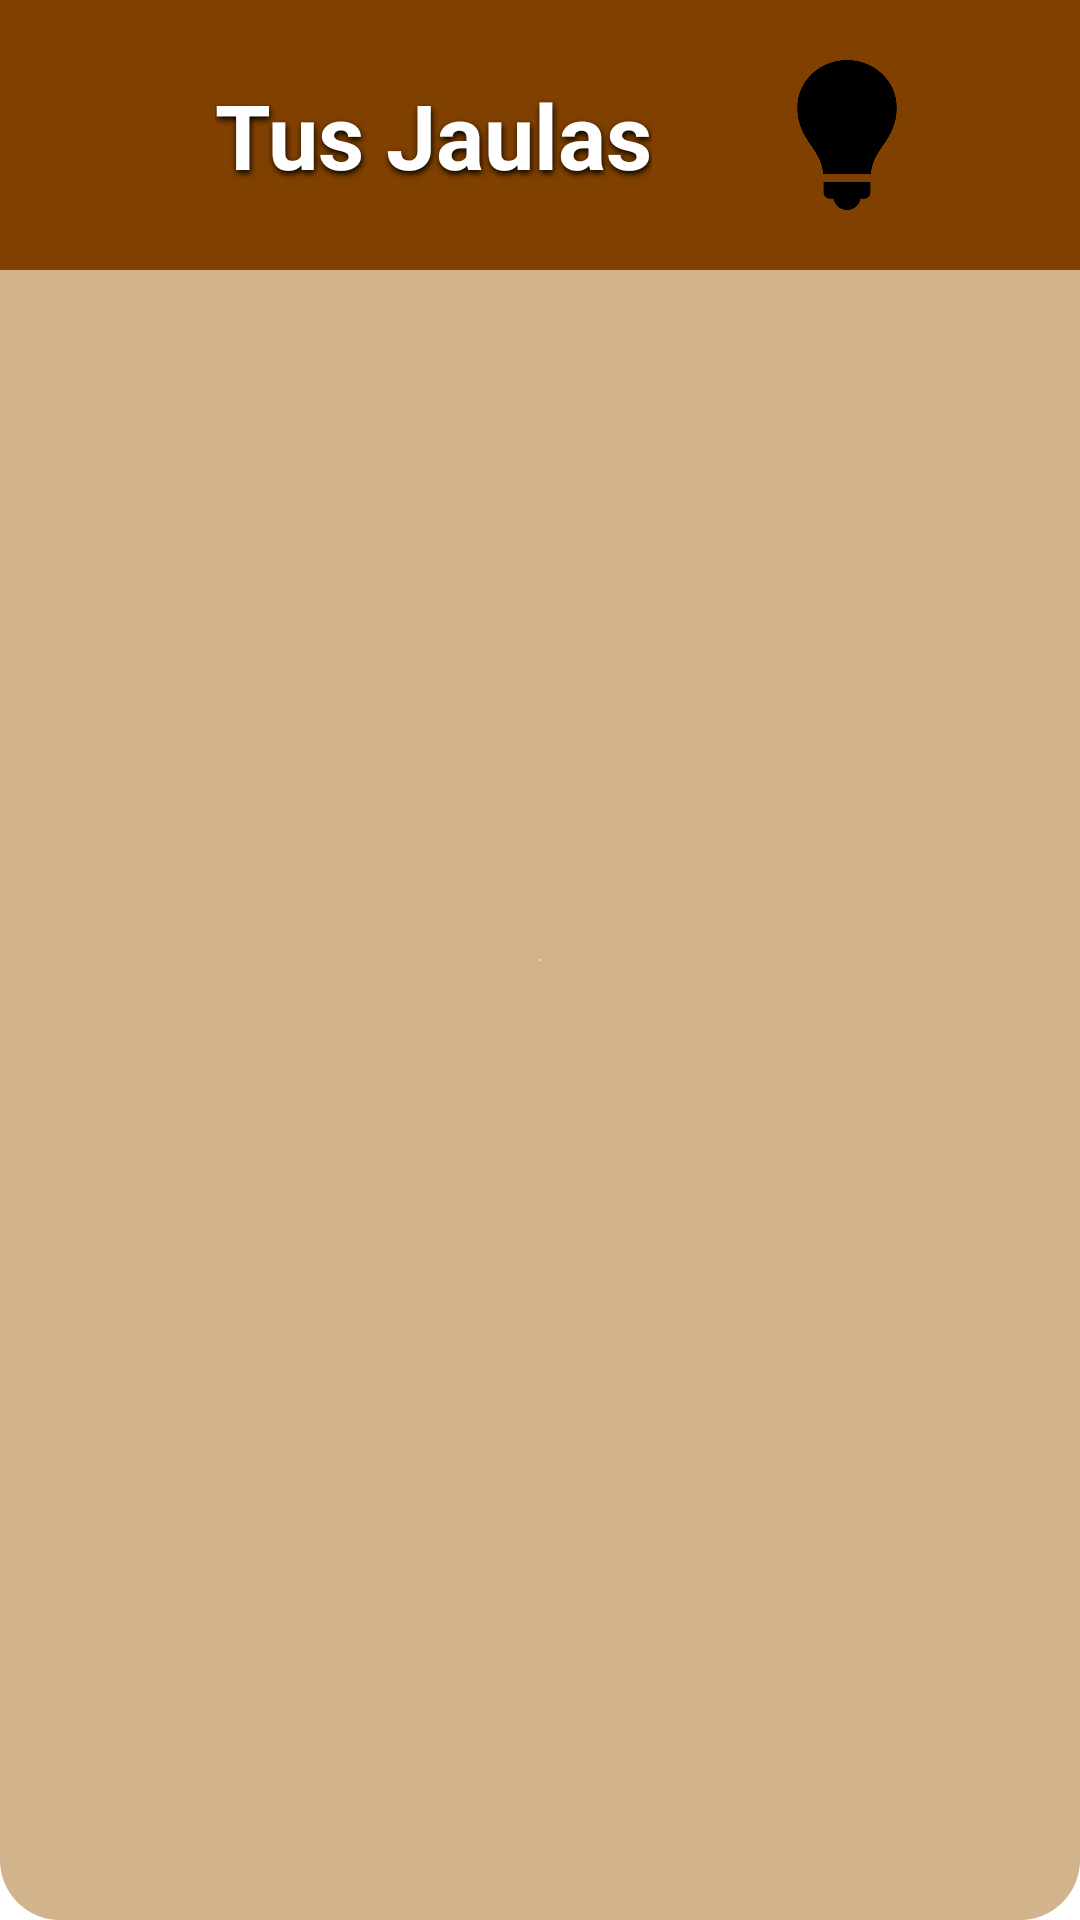

Screen size 1080w x 1920h. Icon name, then its box in pixels as (x1, y1, x2, y2):
bombilla: (797, 60, 897, 210)
